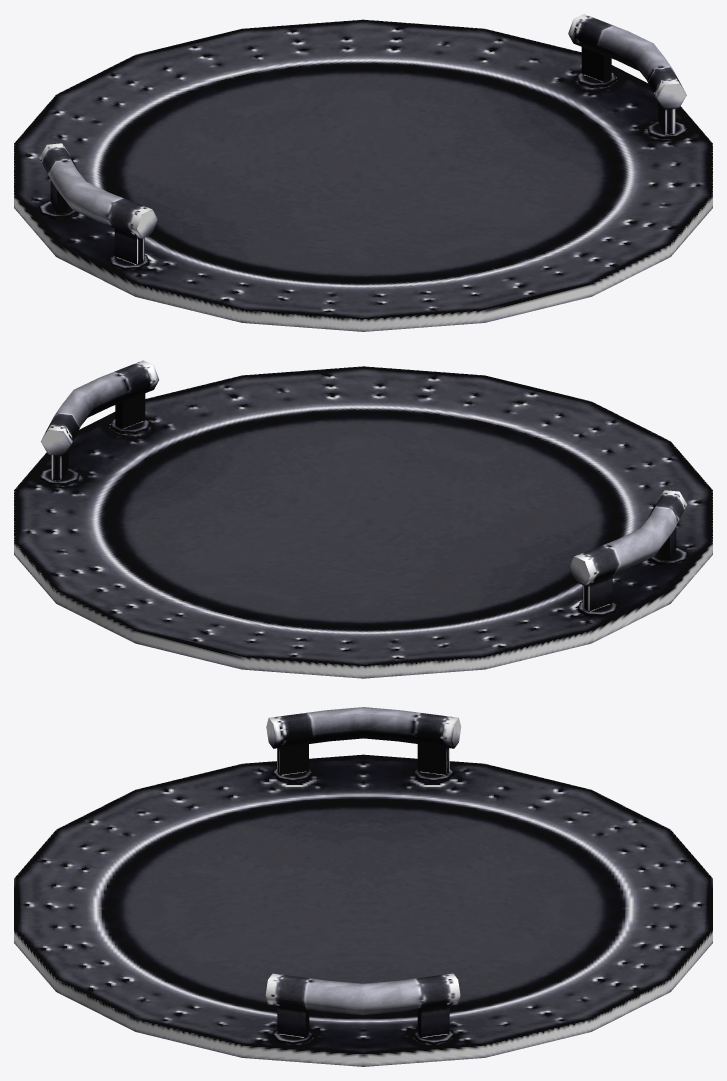
Rendered from TablewareC.FBX.
The picture shows the model from 3 angles, top to bottom: view 1: azimuth 30°, elevation 25°; view 2: azimuth 150°, elevation 25°; view 3: azimuth 270°, elevation 25°; orthographic projection.
Parts seen in each view (by area): view 1: TablewareC; view 2: TablewareC; view 3: TablewareC.
Part boxes in pixels (left/top/right/bottom): TablewareC: left=14, top=14, right=712, bottom=331; TablewareC: left=14, top=360, right=712, bottom=678; TablewareC: left=14, top=707, right=712, bottom=1066.
Size of the model in its own units: 47.41 by 46.69 by 6.22.
